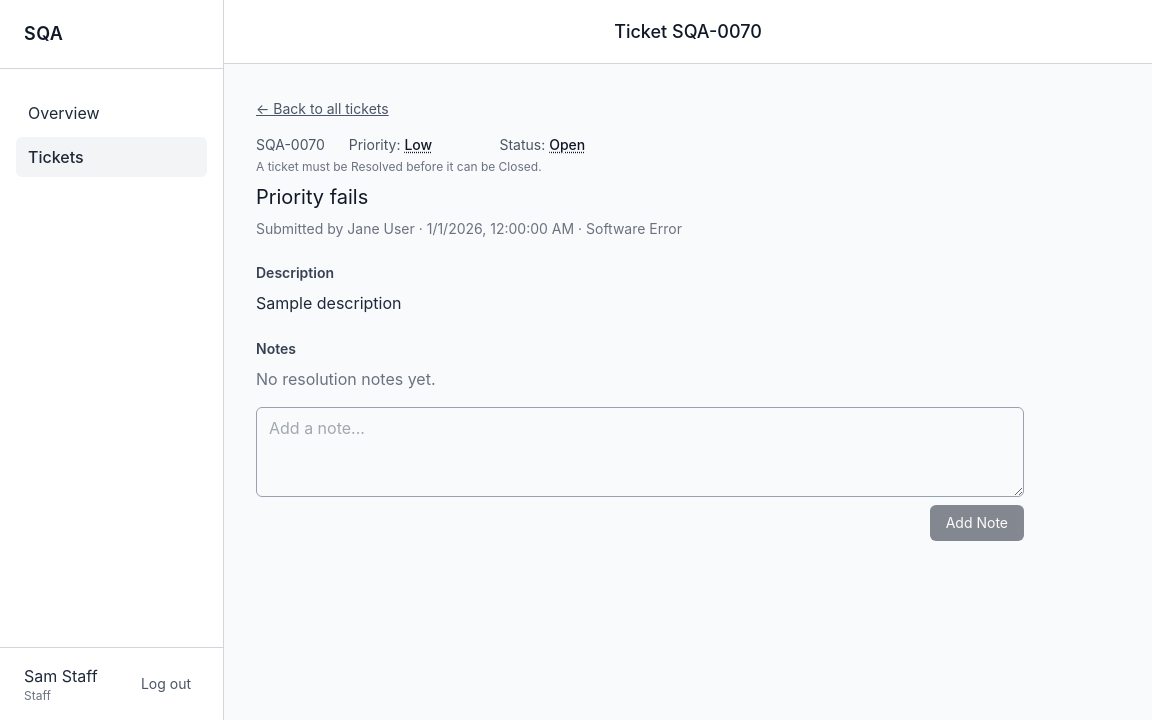
Test case: TicketDetail page › failed updates (error handling) › TC-ERR-04: a failed priority update shows an error and keeps the saved priority
The width and height of the screenshot is (1152, 720).
Expected: the heading "Priority fails" is shown, [256, 185, 368, 209]
Select "Critical" in the dropdown next to "Priority:": point(440, 145) [404, 135, 476, 155]
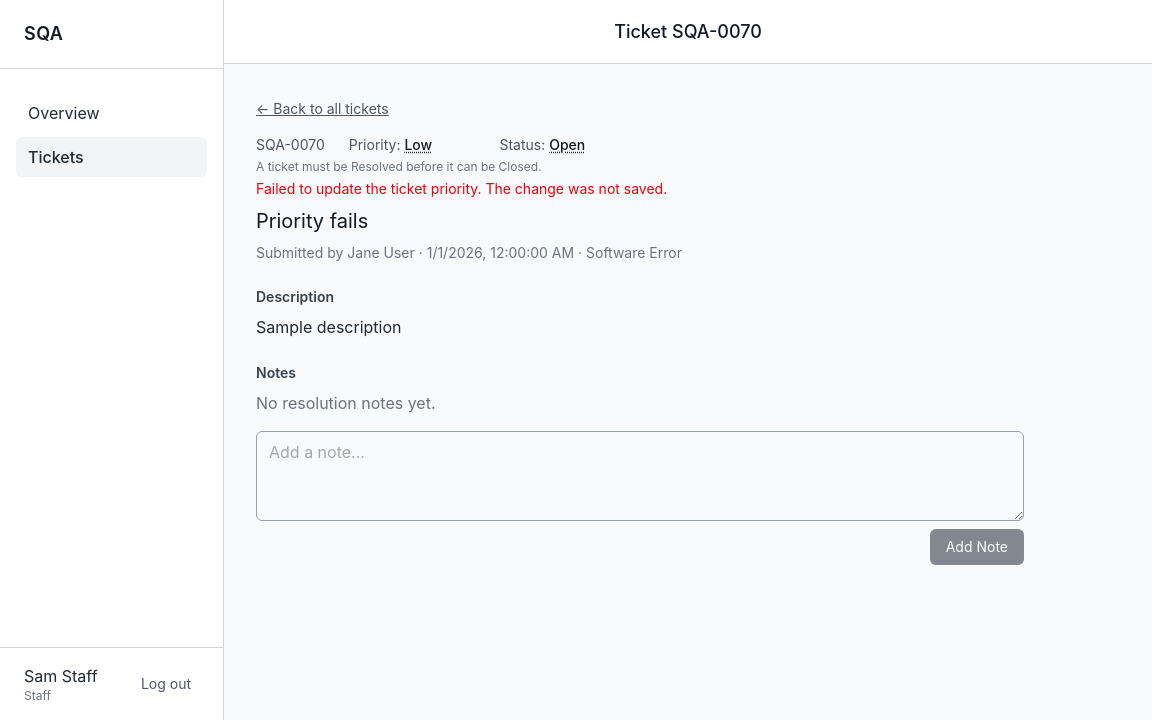
Now the message shows "Failed to update the ticket priority", box [256, 180, 667, 197]
